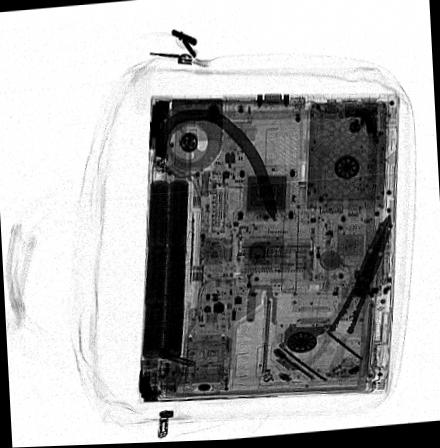Scissors: (277, 211, 397, 387)
